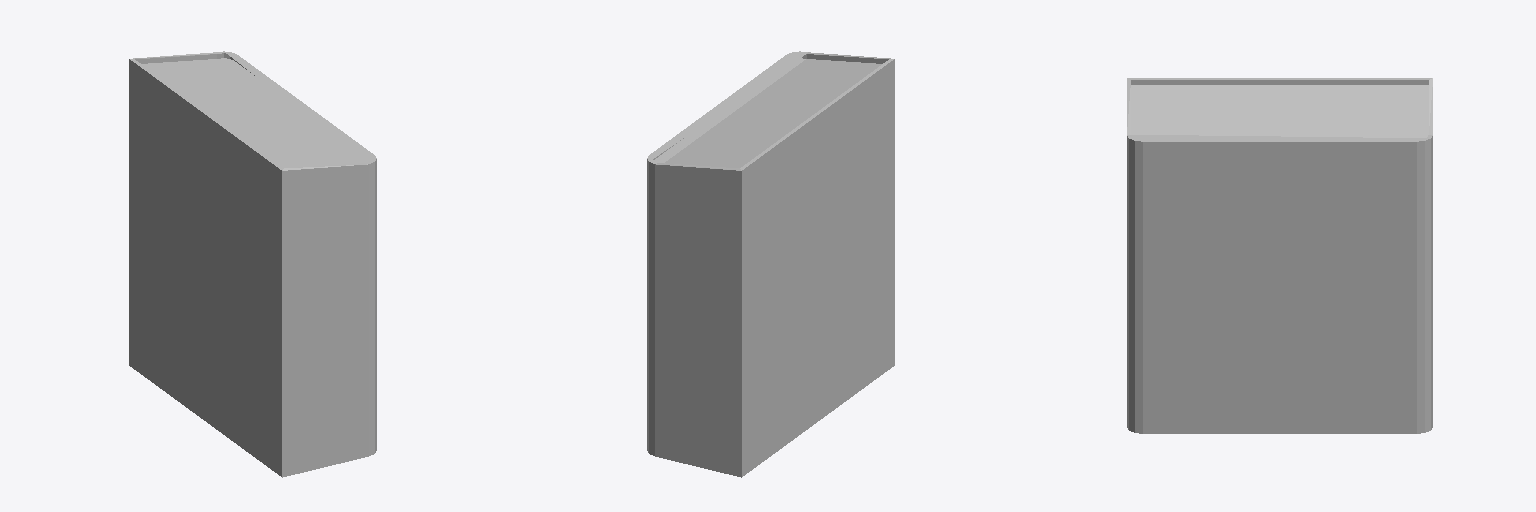
File: Soap.obj
3 views of the same model, side by side, from view 1: azimuth 30°, elevation 25°; view 2: azimuth 150°, elevation 25°; view 3: azimuth 270°, elevation 25° (orthographic).
Parts seen in each view (by area): view 1: group_25_Material.001; view 2: group_25_Material.001; view 3: group_25_Material.001.
Part boxes in pixels (left/top/right/bottom): group_25_Material.001: left=129, top=51, right=376, bottom=477; group_25_Material.001: left=647, top=51, right=894, bottom=477; group_25_Material.001: left=1127, top=78, right=1432, bottom=433.
Bounding box in the file's own units: 4.25 × 12.4 × 11.22.